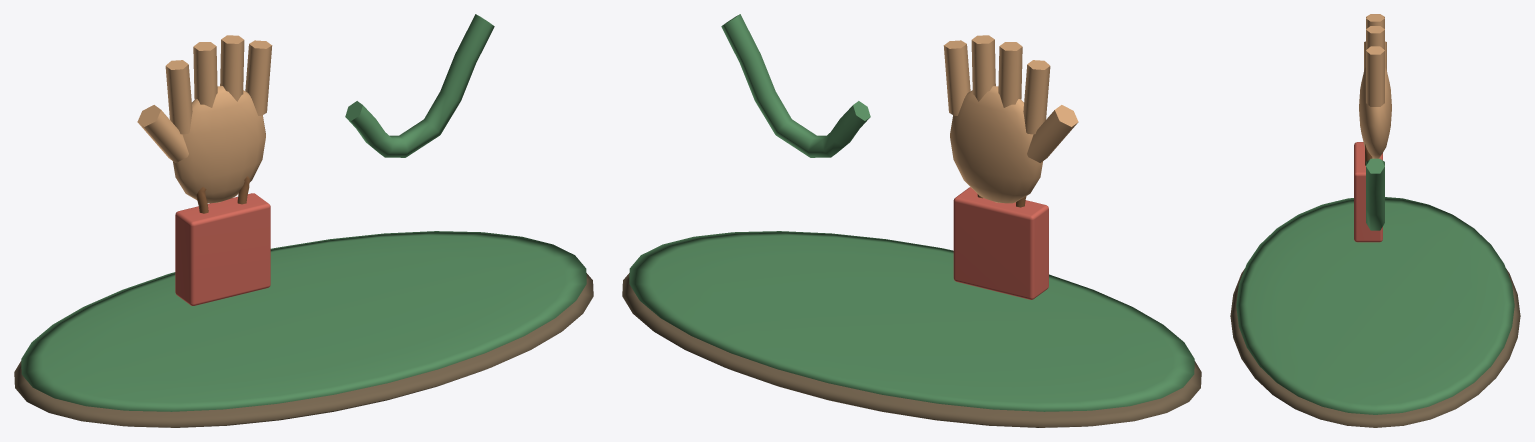
The model's file is complete-third-hand-carries-confirmed.glb.
3 views of the same model, side by side, from view 1: azimuth 30°, elevation 25°; view 2: azimuth 150°, elevation 25°; view 3: azimuth 270°, elevation 25° (orthographic). The views are drawn at different scales.
Parts seen in each view (by area): view 1: complete-third-hand-carries-confirmed_surface_01, complete-third-hand-carries-confirmed_surface_02, complete-third-hand-carries-confirmed_surface_00, complete-third-hand-carries-confirmed_surface_03; view 2: complete-third-hand-carries-confirmed_surface_01, complete-third-hand-carries-confirmed_surface_02, complete-third-hand-carries-confirmed_surface_00, complete-third-hand-carries-confirmed_surface_03; view 3: complete-third-hand-carries-confirmed_surface_01, complete-third-hand-carries-confirmed_surface_00, complete-third-hand-carries-confirmed_surface_02, complete-third-hand-carries-confirmed_surface_03.
Boxes of the visible parts, box(x1,y1,x2,y2) form: complete-third-hand-carries-confirmed_surface_01: box(21, 14, 586, 411); complete-third-hand-carries-confirmed_surface_02: box(137, 35, 272, 203); complete-third-hand-carries-confirmed_surface_00: box(14, 273, 593, 427); complete-third-hand-carries-confirmed_surface_03: box(175, 193, 270, 305); complete-third-hand-carries-confirmed_surface_01: box(629, 14, 1194, 411); complete-third-hand-carries-confirmed_surface_02: box(943, 35, 1078, 203); complete-third-hand-carries-confirmed_surface_00: box(622, 273, 1201, 427); complete-third-hand-carries-confirmed_surface_03: box(953, 187, 1048, 299); complete-third-hand-carries-confirmed_surface_01: box(1236, 158, 1514, 414); complete-third-hand-carries-confirmed_surface_00: box(1230, 268, 1520, 427); complete-third-hand-carries-confirmed_surface_02: box(1359, 14, 1391, 158); complete-third-hand-carries-confirmed_surface_03: box(1354, 142, 1382, 242).
Bounding box in the file's own units: 4.56 × 2.58 × 2.5.
